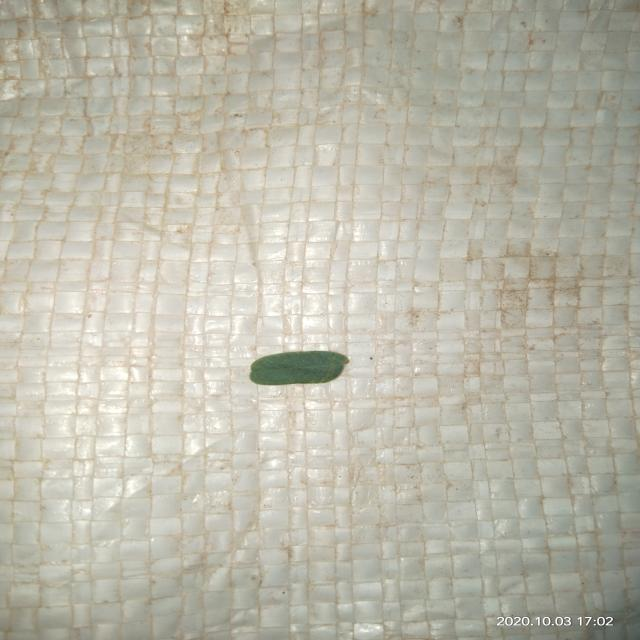tamarind: (250, 351, 348, 385)
